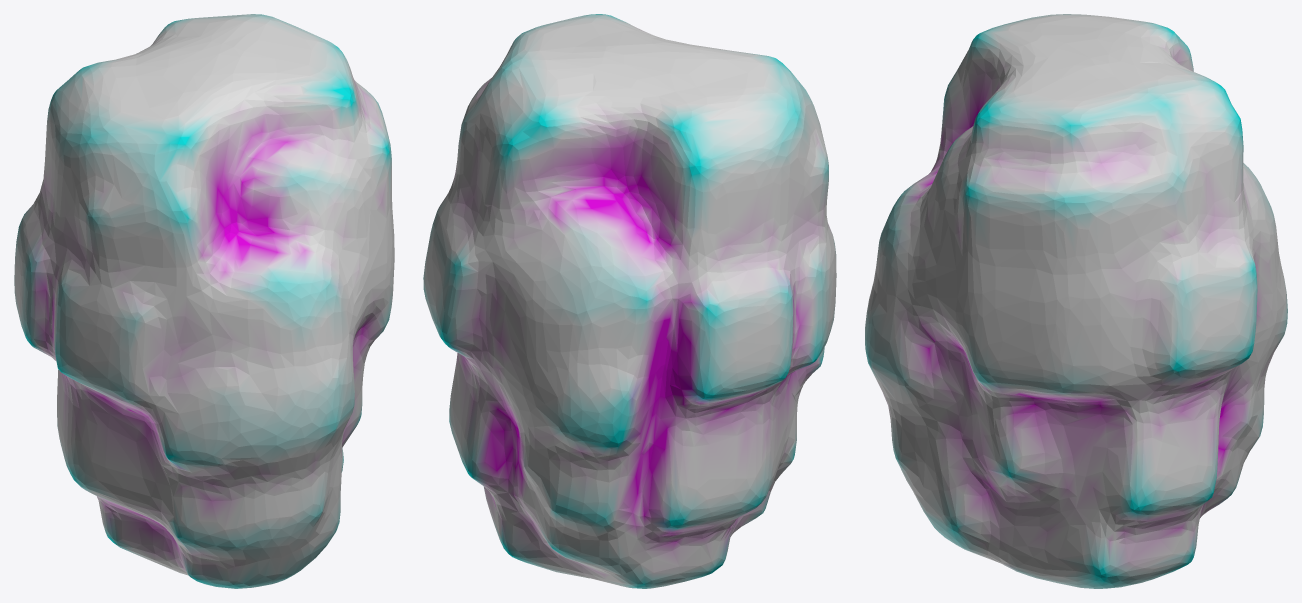
Rendered from cliff_block.glb.
3 views of the same model, side by side, from view 1: azimuth 30°, elevation 25°; view 2: azimuth 150°, elevation 25°; view 3: azimuth 270°, elevation 25° (orthographic). The views are drawn at different scales.
Visible parts, largest first — view 1: cliff_block; view 2: cliff_block; view 3: cliff_block.
Part boxes in pixels (x1,y1,x2,y2): cliff_block: (14,14,394,588); cliff_block: (423,14,836,588); cliff_block: (865,14,1287,588).
Size of the model in its own units: 6.14 by 8.85 by 6.74.
